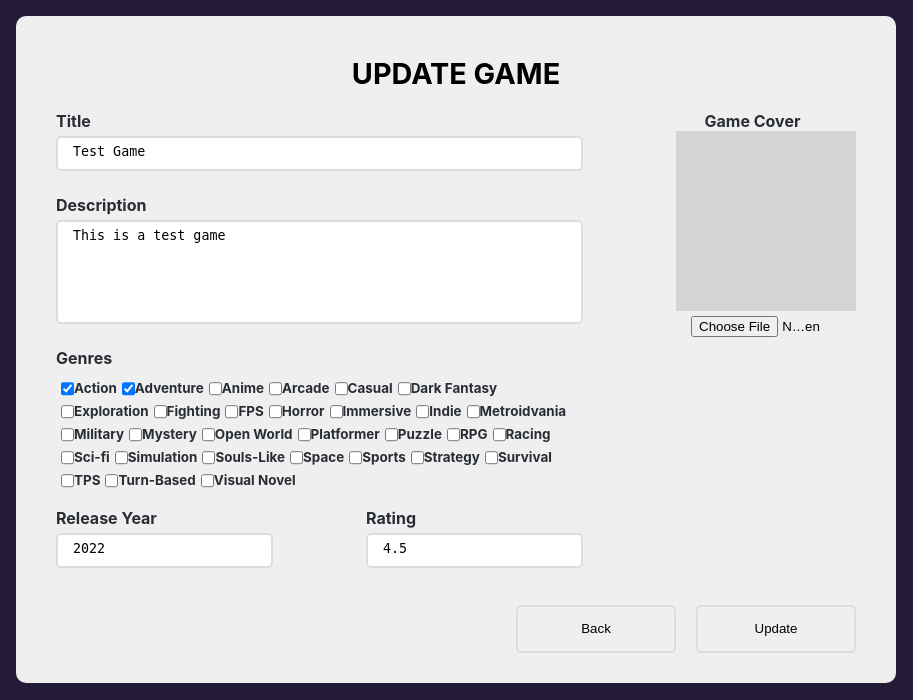
Scenario: UpdateGame component › validateDescription function
Clear the text box labelled "Description": (320, 272) [56,220,583,324]
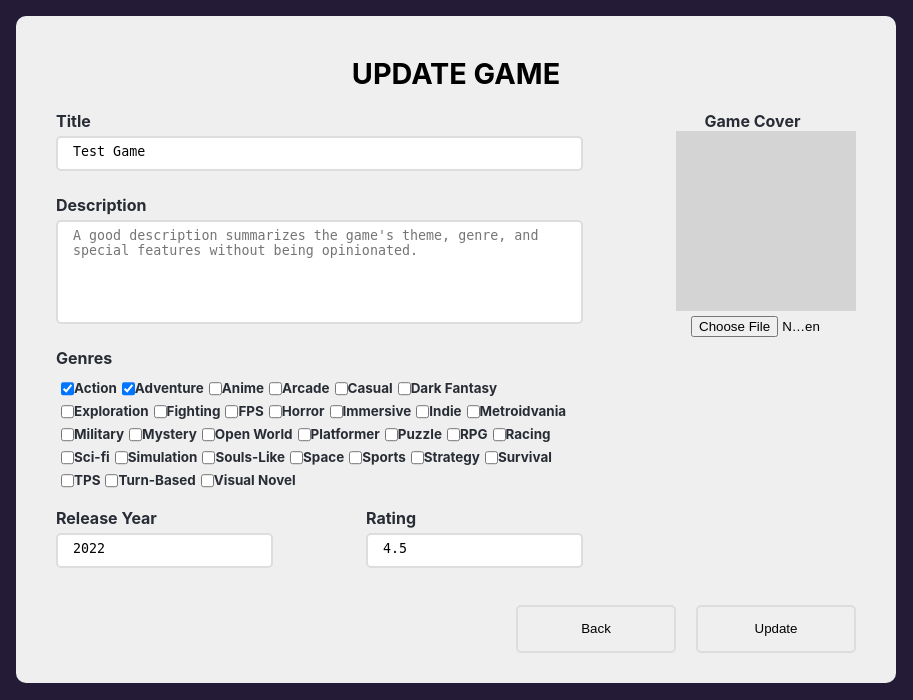
Leave the text box labelled "Description", box [56,220,583,324]
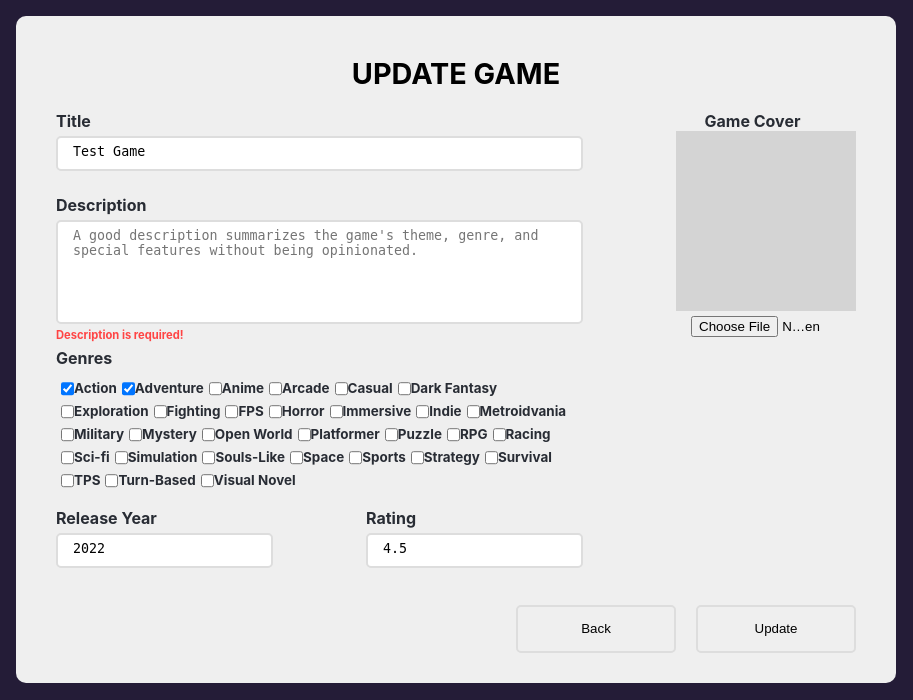
Expected: the text "Description is required!" is shown, [56,328,184,344]
